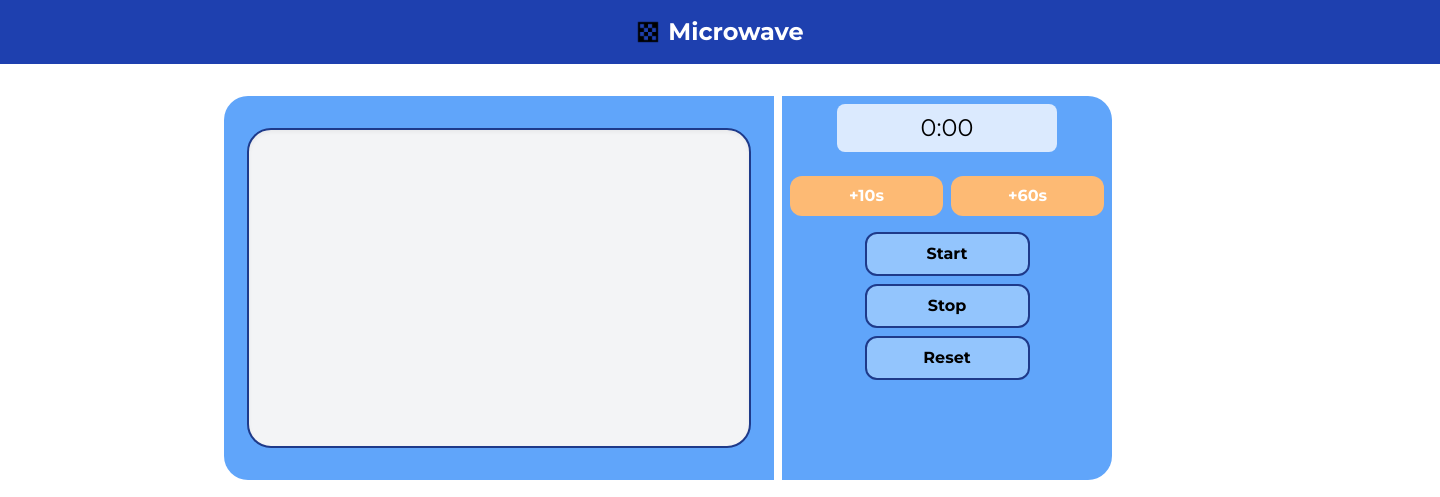
Scenario: <Promotions /> › should render display and buttons
Expected: the text "0:00" is shown, [837,104,1057,152]
Expected: the button "+60s" is shown, [951,176,1104,216]
What coordinates should you click on to do the following:
click the button "+10s"
I would click on:
 (866, 196)
Its box is [790,176,943,216].
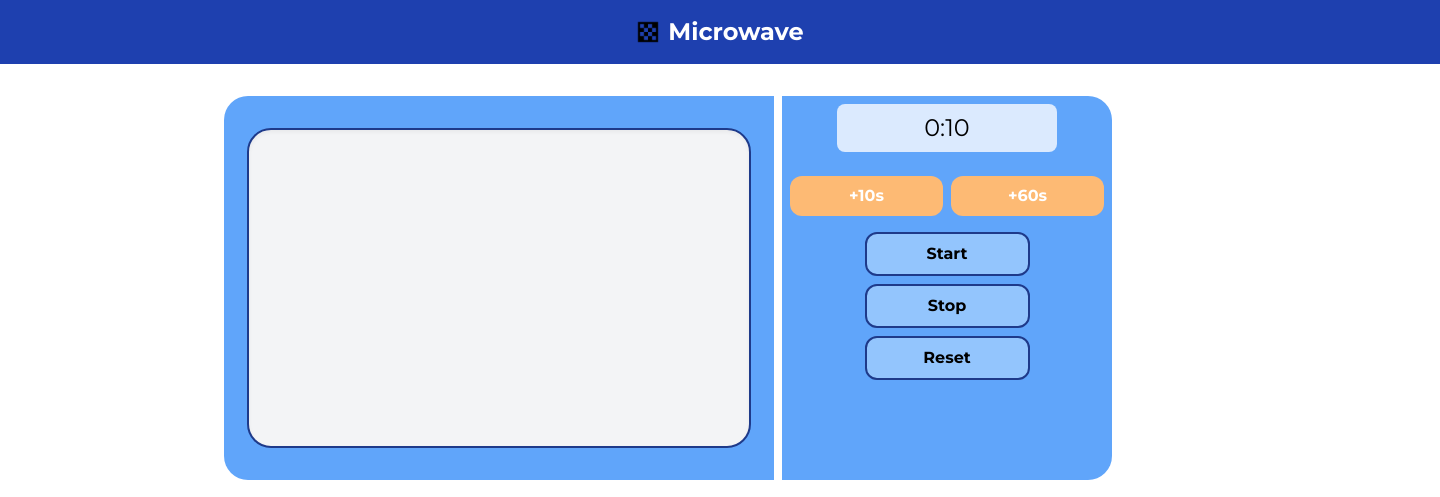
Now the text "0:10" is shown, box [837,104,1057,152]
What coordinates should you click on to do the following:
click the button "+60s"
I would click on:
 (1028, 196)
Its box is [951,176,1104,216].
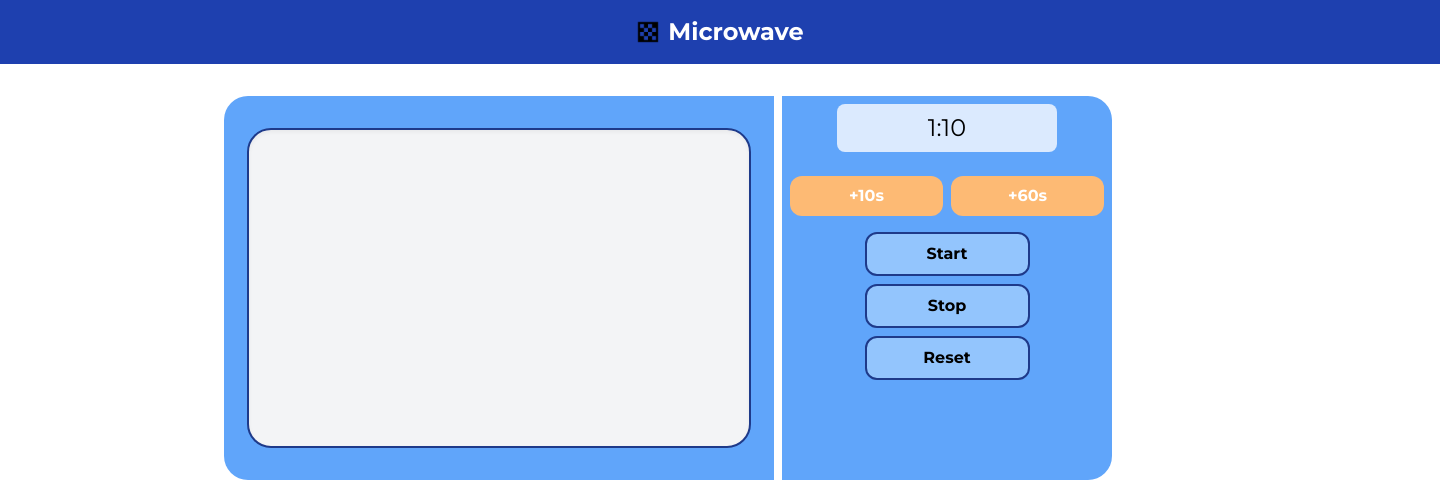
Now the text "1:10" is shown, box [837,104,1057,152]
